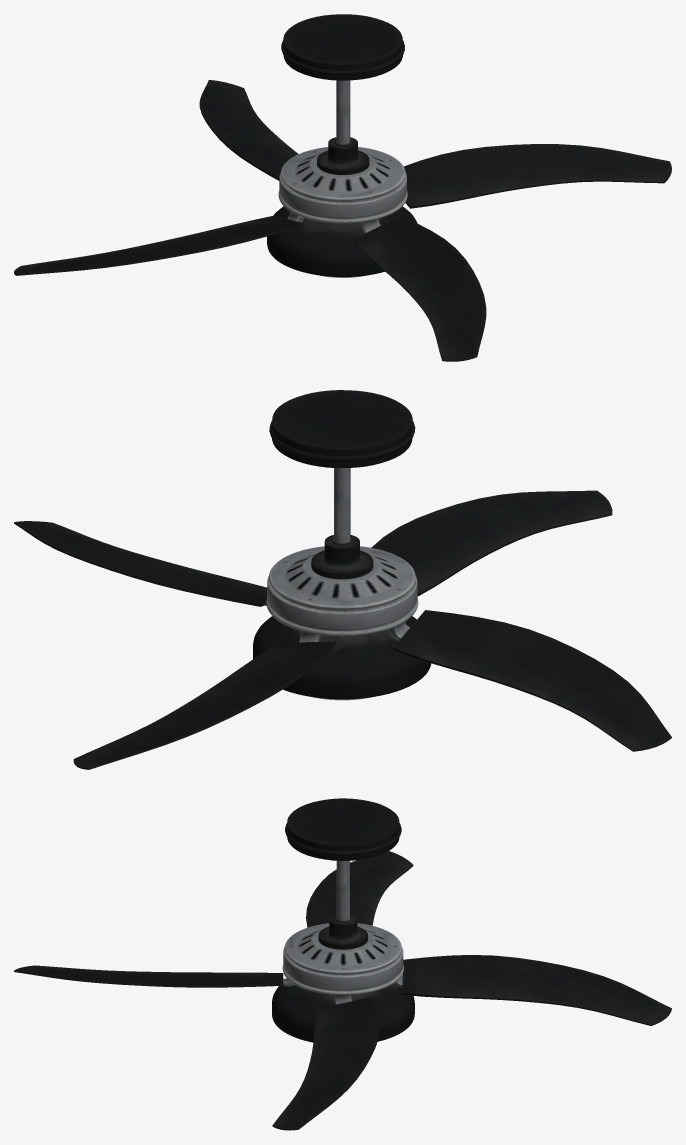
Rendered from ceiling_fan.glb.
3 renders of one model, top to bottom at view 1: azimuth 30°, elevation 25°; view 2: azimuth 150°, elevation 25°; view 3: azimuth 270°, elevation 25°, orthographic. The views are drawn at different scales.
Parts seen in each view (by area): view 1: ceiling_fan_blades, ceiling_fan; view 2: ceiling_fan_blades, ceiling_fan; view 3: ceiling_fan_blades, ceiling_fan.
Part boxes in pixels (x1,y1,x2,y2): ceiling_fan_blades: [14, 80, 671, 361]; ceiling_fan: [267, 14, 417, 277]; ceiling_fan_blades: [14, 490, 671, 769]; ceiling_fan: [253, 390, 431, 700]; ceiling_fan_blades: [14, 851, 671, 1130]; ceiling_fan: [272, 798, 414, 1042].
Size of the model in its own units: 1.46 by 0.5163 by 1.46.
Materials: 1 (1 with a texture image).
